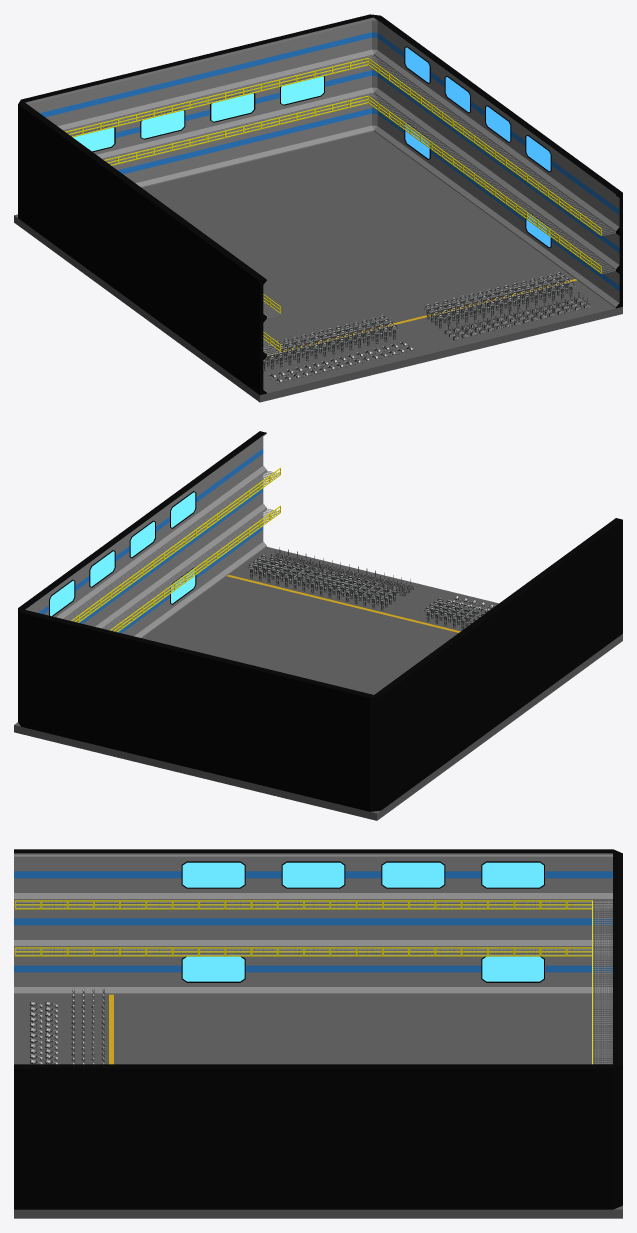
Rendered from pokoj_boss.fbx.
The picture shows the model from 3 angles, top to bottom: view 1: azimuth 30°, elevation 25°; view 2: azimuth 150°, elevation 25°; view 3: azimuth 270°, elevation 25°; orthographic projection. The views are drawn at different scales.
Parts seen in each view (by area): view 1: zwykły.003, Podłoga, Cube, krata.002, krata.001, barierka1.001, barierka1, Cube.002, Cube.001; view 2: zwykły.003, Podłoga, Cube, krata.002, krata.001, Cube.002, barierka1.001, barierka1; view 3: zwykły.003, Podłoga, krata.002, krata.001, barierka1.001, barierka1, Cube.001, Cube.
Boxes of the visible parts, left/top/right/bottom form: zwykły.003: left=18, top=14, right=622, bottom=394; Podłoga: left=14, top=131, right=622, bottom=402; Cube: left=263, top=272, right=575, bottom=371; krata.002: left=64, top=55, right=615, bottom=317; krata.001: left=103, top=93, right=615, bottom=355; barierka1.001: left=65, top=58, right=601, bottom=313; barierka1: left=104, top=95, right=601, bottom=351; Cube.002: left=444, top=291, right=590, bottom=340; Cube.001: left=269, top=341, right=414, bottom=383; zwykły.003: left=18, top=431, right=622, bottom=811; Podłoga: left=14, top=547, right=622, bottom=820; Cube: left=247, top=554, right=486, bottom=629; krata.002: left=64, top=470, right=279, bottom=621; krata.001: left=103, top=508, right=279, bottom=631; Cube.002: left=268, top=547, right=414, bottom=596; barierka1.001: left=71, top=467, right=280, bottom=622; barierka1: left=110, top=505, right=280, bottom=632; zwykły.003: left=14, top=849, right=622, bottom=1209; Podłoga: left=14, top=994, right=622, bottom=1218; krata.002: left=14, top=900, right=612, bottom=1064; krata.001: left=14, top=947, right=612, bottom=1063; barierka1.001: left=15, top=900, right=592, bottom=1064; barierka1: left=15, top=947, right=591, bottom=956; Cube.001: left=29, top=1001, right=57, bottom=1064; Cube: left=71, top=988, right=104, bottom=1064.
Size of the model in its own units: 5200 by 1660 by 6100.
